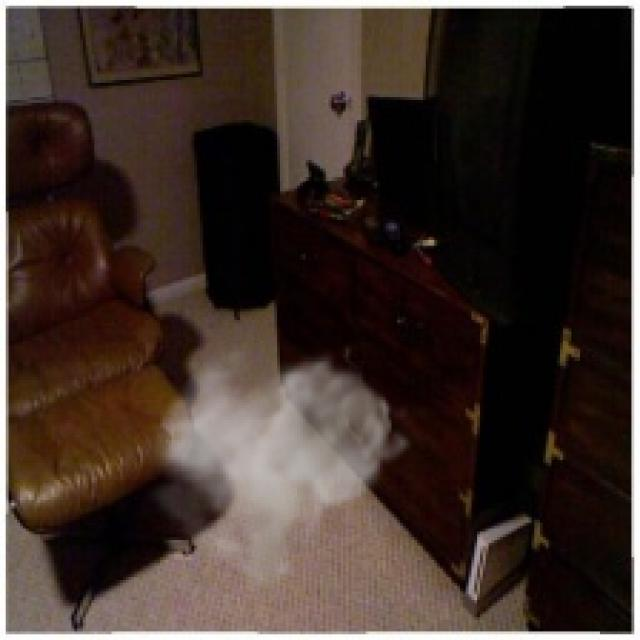smoke: (146, 331, 414, 606)
